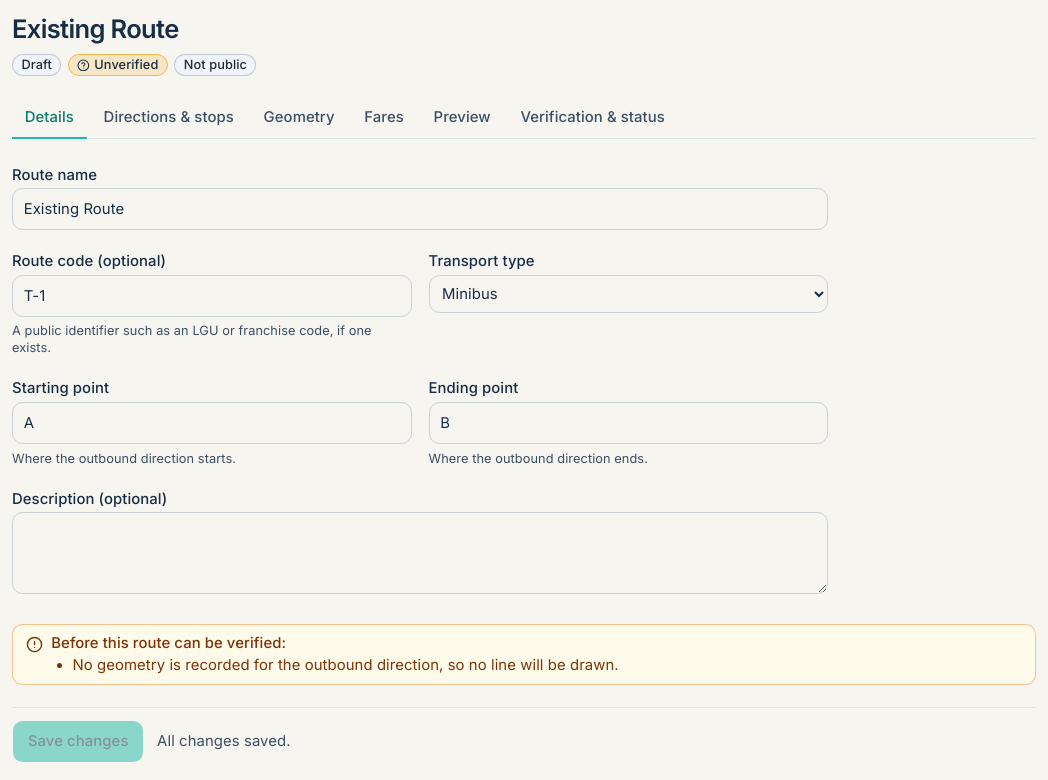
it: directions › reorders stops and marks the route as changed
Click the tab "Directions & stops". click: (169, 118)
box: [91,97,247,140]
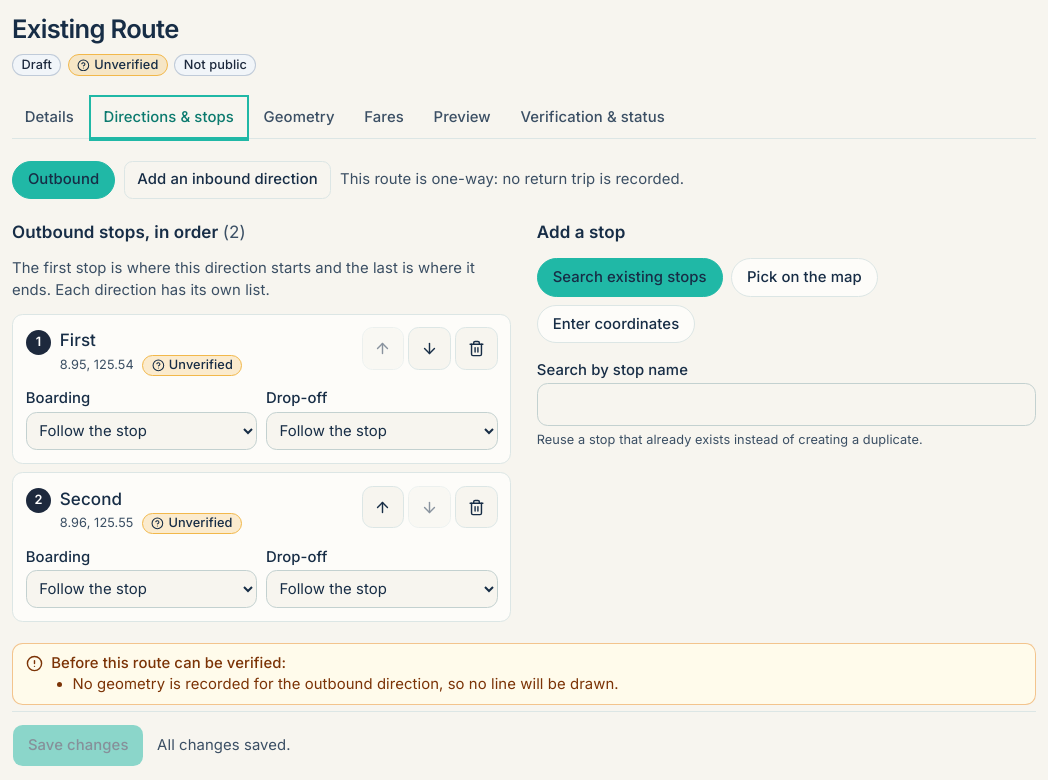
Click the button named "Move First down". click: (430, 349)
box: [408,328,451,370]
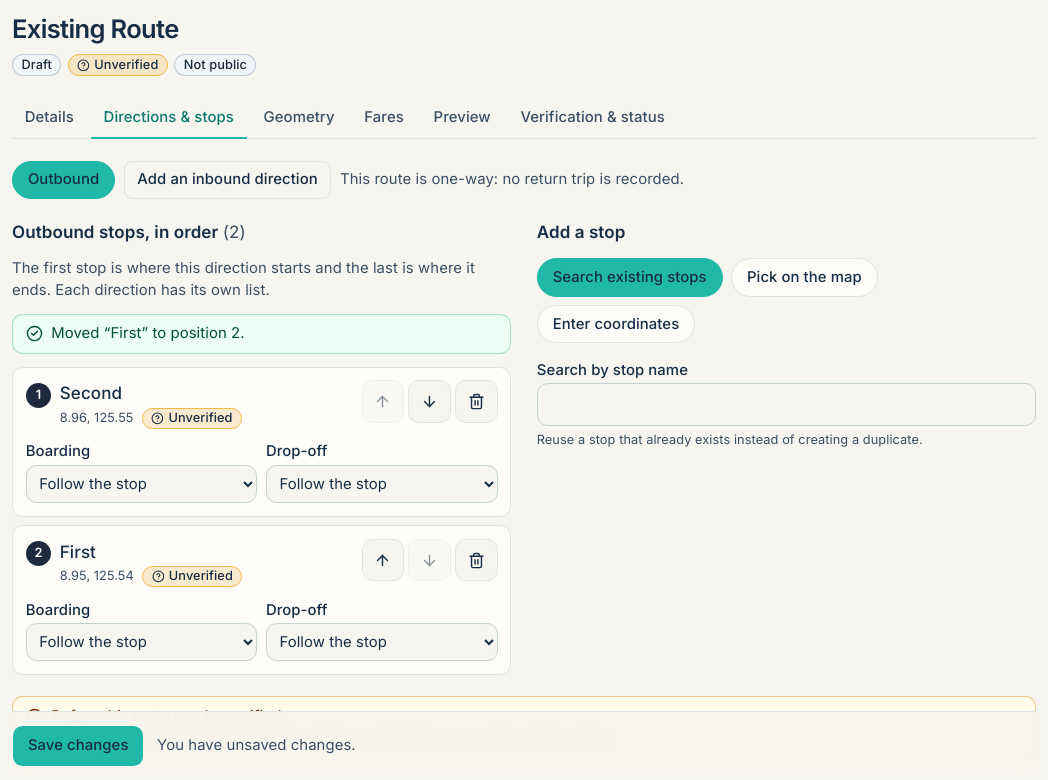
Check: the list item "1 Second 8.96, 125.55 Unverified Boarding Drop-off" is shown, box [12,367,511,517]
Check: the list item "2 First 8.95, 125.54 Unverified Boarding Drop-off" is shown, box [12,525,511,675]
Check: the text "You have unsaved changes." is shown, box [157,735,356,757]
